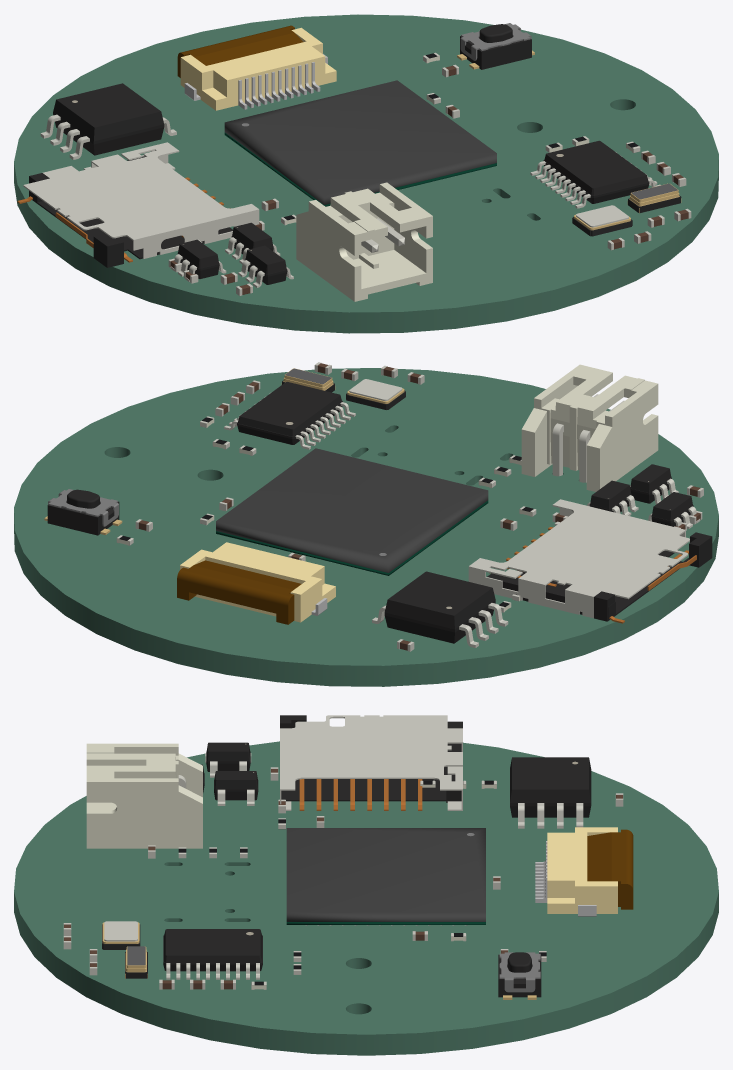
The model's file is myuko_board.glb.
3 views of the same model, one above another, from view 1: azimuth 30°, elevation 25°; view 2: azimuth 150°, elevation 25°; view 3: azimuth 270°, elevation 25° (orthographic).
Visible parts, largest first — view 1: =>[0:1:1:29], =>[0:1:1:7], =>[0:1:1:18], =>[0:1:1:26], =>[0:1:1:22], body, =>[0:1:1:28], =>[0:1:1:3] (×3), =>[0:1:1:16], lock, pins, =>[0:1:1:24] (+1 smaller); view 2: =>[0:1:1:29], =>[0:1:1:7], =>[0:1:1:18], =>[0:1:1:26], =>[0:1:1:22], =>[0:1:1:28], lock, body, =>[0:1:1:3] (×3), =>[0:1:1:16], =>[0:1:1:24], =>[0:1:1:20]; view 3: =>[0:1:1:29], =>[0:1:1:7], =>[0:1:1:18], =>[0:1:1:26], =>[0:1:1:22], =>[0:1:1:28], body, lock, =>[0:1:1:3] (×2), =>[0:1:1:16], =>[0:1:1:24], pins (+1 smaller).
Part boxes in pixels (x1,y1,x2,y2): =>[0:1:1:29]: (14, 14, 718, 333); =>[0:1:1:7]: (224, 80, 496, 206); =>[0:1:1:18]: (17, 142, 259, 267); =>[0:1:1:26]: (296, 182, 432, 301); =>[0:1:1:22]: (40, 83, 176, 159); body: (180, 27, 336, 110); =>[0:1:1:28]: (530, 140, 660, 208); =>[0:1:1:3] (×3): (170, 222, 293, 287); =>[0:1:1:16]: (457, 23, 534, 69); lock: (177, 25, 303, 77); pins: (184, 54, 327, 109); =>[0:1:1:24]: (572, 205, 632, 236); =>[0:1:1:29]: (14, 368, 718, 686); =>[0:1:1:7]: (216, 448, 488, 575); =>[0:1:1:18]: (468, 499, 712, 623); =>[0:1:1:26]: (521, 364, 658, 491); =>[0:1:1:22]: (372, 571, 508, 647); =>[0:1:1:28]: (224, 382, 355, 449); lock: (177, 560, 301, 624); body: (180, 542, 335, 622); =>[0:1:1:3] (×3): (587, 464, 700, 528); =>[0:1:1:16]: (44, 489, 122, 535); =>[0:1:1:24]: (346, 379, 405, 409); =>[0:1:1:20]: (281, 368, 335, 392); =>[0:1:1:29]: (14, 741, 718, 1055); =>[0:1:1:7]: (286, 828, 485, 925); =>[0:1:1:18]: (280, 715, 462, 810); =>[0:1:1:26]: (86, 743, 202, 848); =>[0:1:1:22]: (510, 757, 591, 828); =>[0:1:1:28]: (163, 929, 262, 979); body: (547, 827, 617, 913); lock: (587, 829, 633, 909); =>[0:1:1:3] (×2): (206, 742, 258, 805); =>[0:1:1:16]: (498, 952, 541, 999); =>[0:1:1:24]: (102, 921, 140, 949); pins: (535, 841, 596, 916).
Bounding box in the file's own units: 0.0459 × 0.00825 × 0.046.
